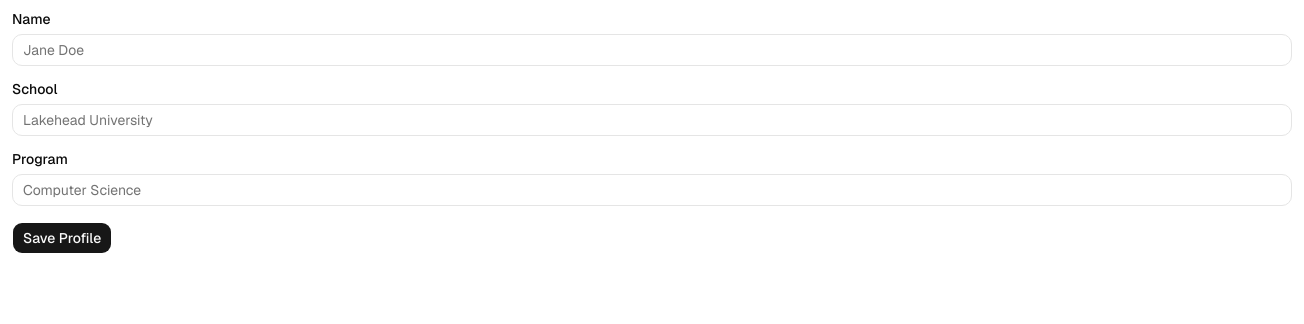
Scenario: ProfileDetailsForm (us-11) › keeps the entered values when saving returns an error
Type "Lakehead" into the field labelled "School" at (652, 120), box [12,104,1292,136]
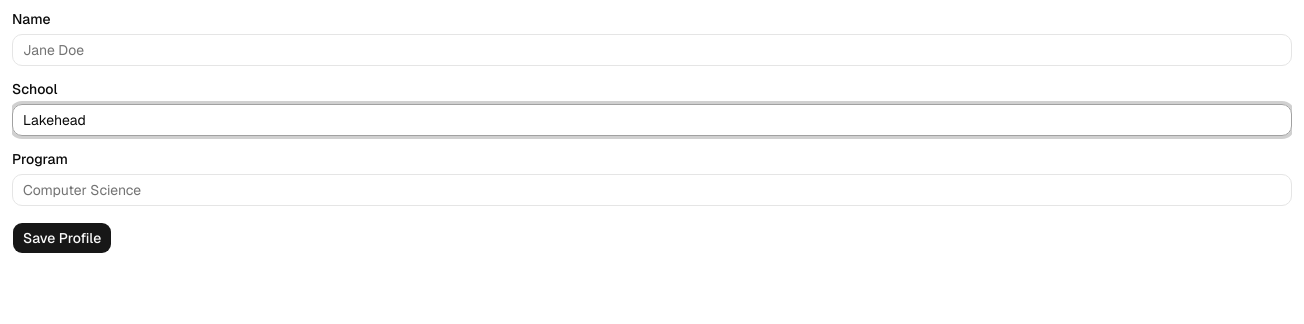
Click the button "Save Profile" at (62, 238), box [12,222,112,254]
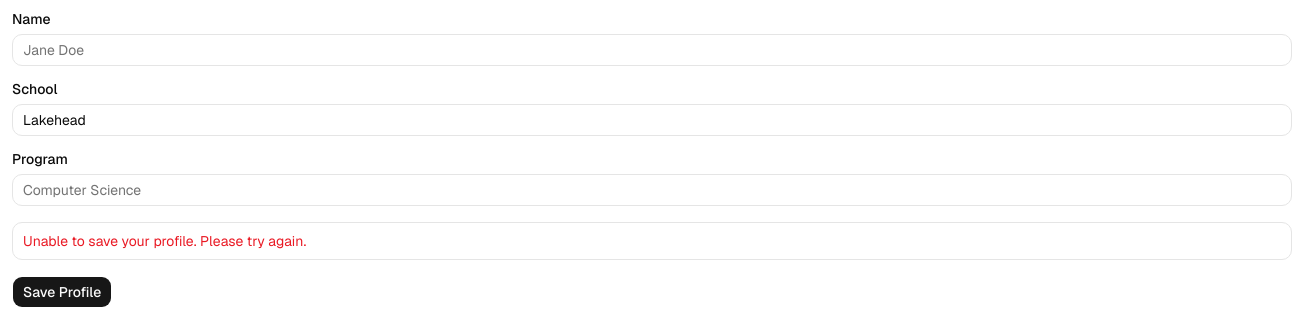
Result: the text "Unable to save your profile. Please try again." is shown at [23,232,306,250]
